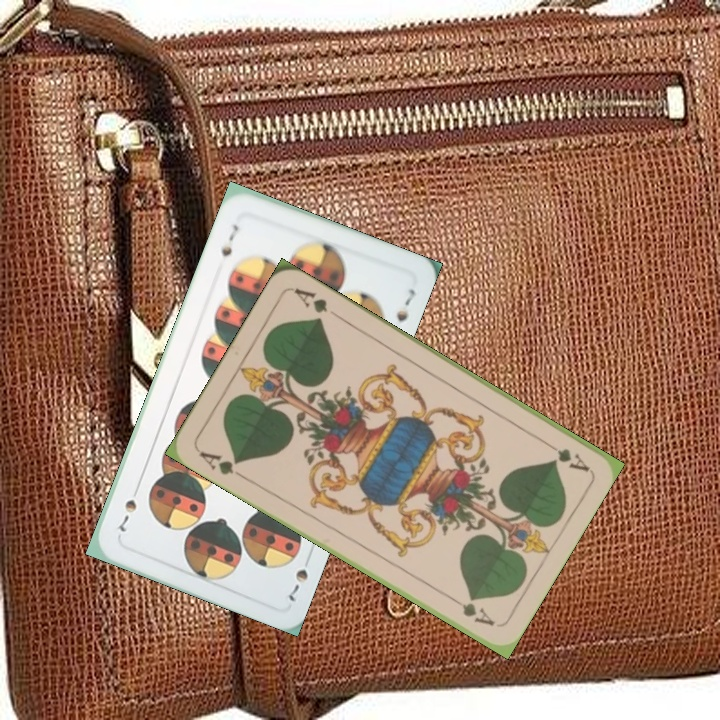GA: (539, 436, 592, 474), (195, 447, 248, 482)
S7: (282, 549, 314, 604), (216, 220, 242, 260)
